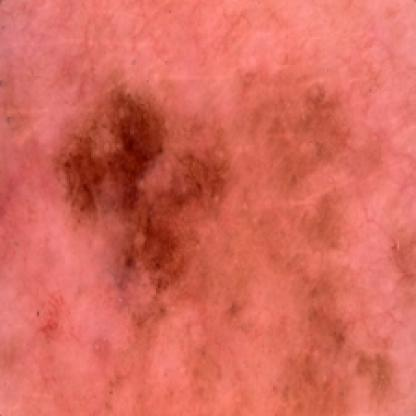Skin_Cancer-Malignant: (58, 81, 240, 324)
